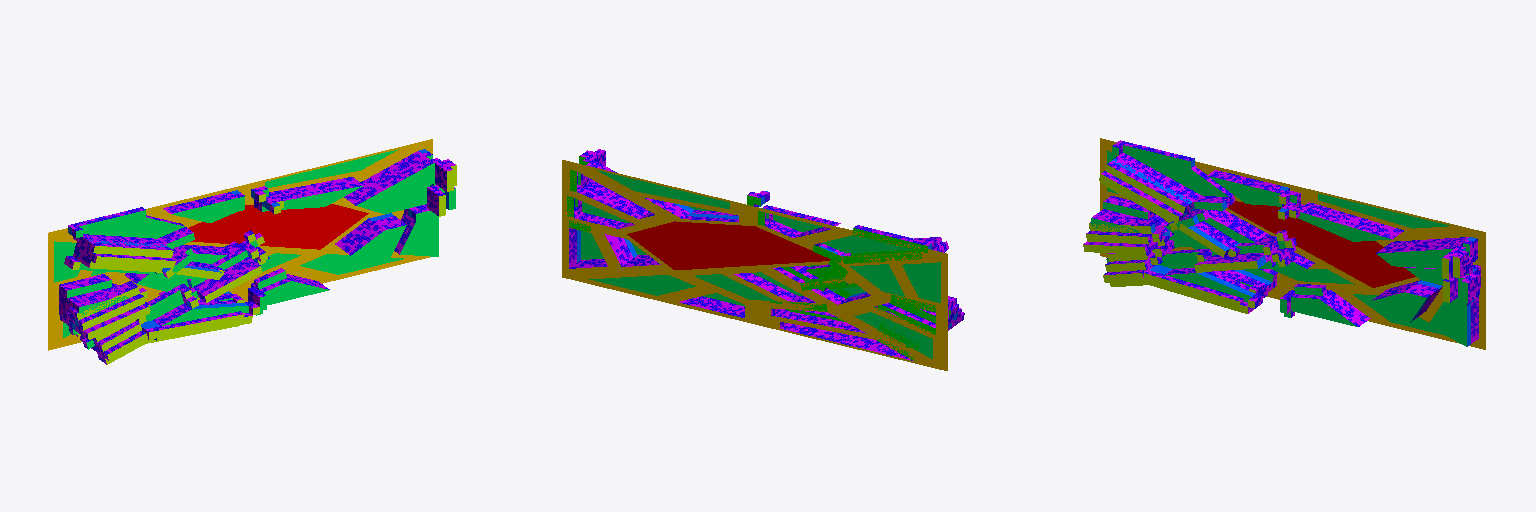
File: my_city.obj
3 renders of one model, left to right at view 1: azimuth 30°, elevation 25°; view 2: azimuth 150°, elevation 25°; view 3: azimuth 330°, elevation 25°, orthographic.
Parts seen in each view (by area): view 1: roof, brick, road, construct_up, plaza, frame, glass, facade; view 2: road, roof, plaza, brick, construct_down, frame, glass, facade; view 3: roof, brick, construct_up, road, plaza, glass, frame, facade.
Boxes of the visible parts, box(x1,y1,x2,y2) form: roof: box(54, 149, 455, 349); brick: box(59, 151, 455, 364); road: box(48, 139, 432, 350); construct_up: box(72, 165, 456, 364); plaza: box(188, 204, 368, 249); frame: box(59, 152, 451, 361); glass: box(59, 153, 453, 362); facade: box(68, 149, 448, 340); road: box(562, 160, 947, 370); roof: box(575, 170, 940, 358); plaza: box(627, 221, 830, 269); brick: box(569, 149, 963, 360); construct_down: box(567, 156, 950, 360); frame: box(569, 151, 964, 360); glass: box(569, 151, 963, 359); facade: box(577, 191, 957, 328); roof: box(1091, 145, 1469, 346); brick: box(1084, 140, 1480, 343); construct_up: box(1083, 165, 1459, 313); road: box(1100, 138, 1485, 349); plaza: box(1228, 201, 1415, 287); glass: box(1089, 142, 1480, 335); frame: box(1089, 141, 1480, 336); facade: box(1111, 159, 1476, 346).
Bounding box in the file's own units: 276 × 85.3 × 35.